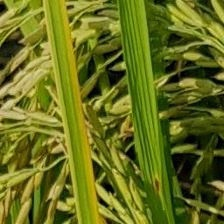Leaf_Blast: (48, 4, 94, 216)
